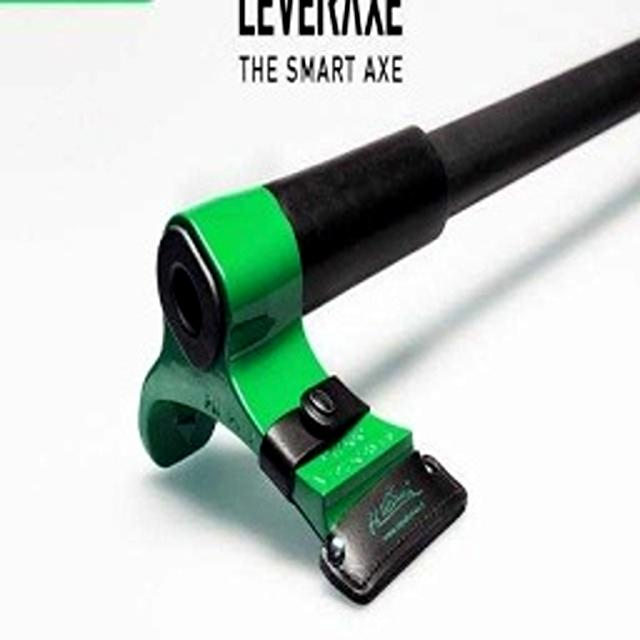ax: (126, 29, 640, 616)
